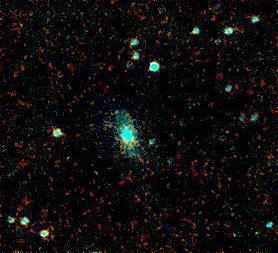star: (239, 217, 269, 247)
